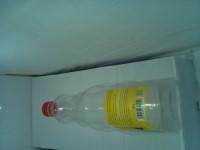bottle: (41, 79, 180, 135)
